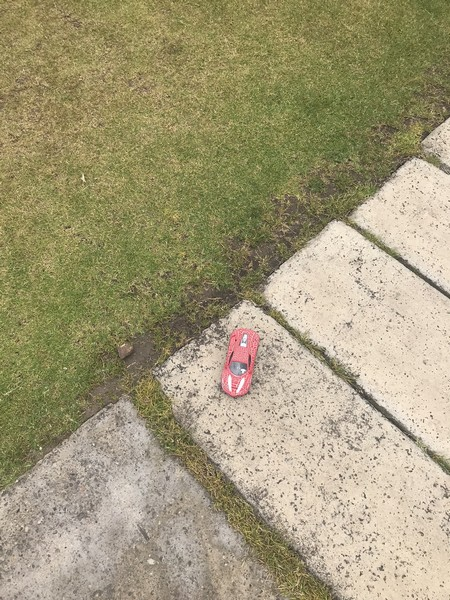RC: (220, 327, 261, 397)
